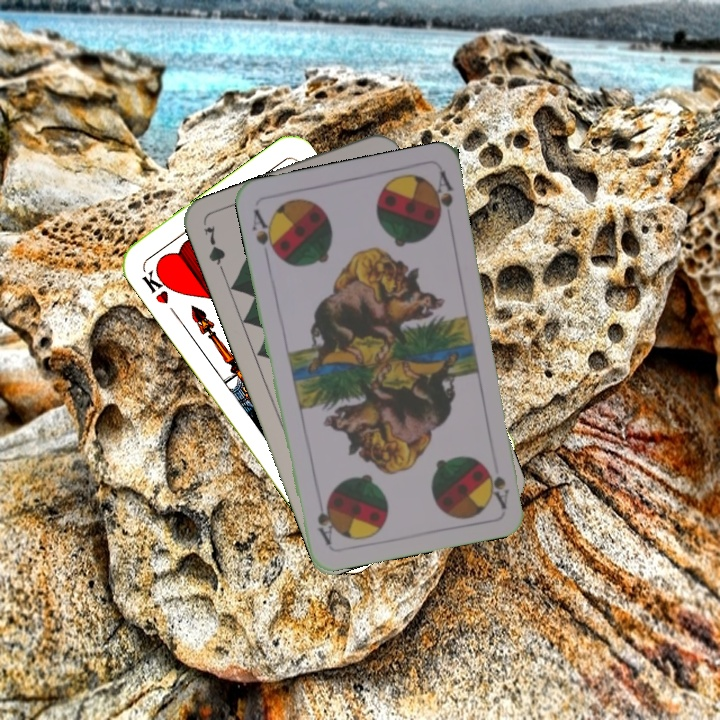G7: (200, 221, 229, 279)
HK: (138, 263, 176, 307)
SA: (247, 205, 281, 262), (486, 468, 512, 511)
